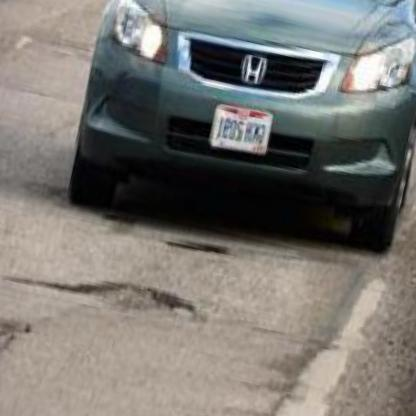pothole: (75, 266, 204, 334)
